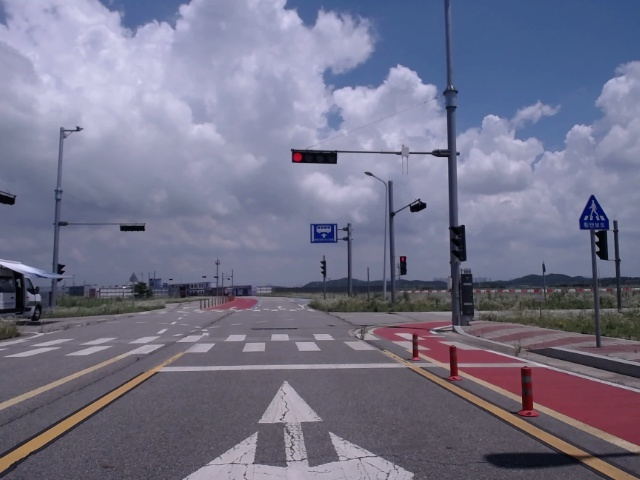red_4: (292, 151, 337, 164)
